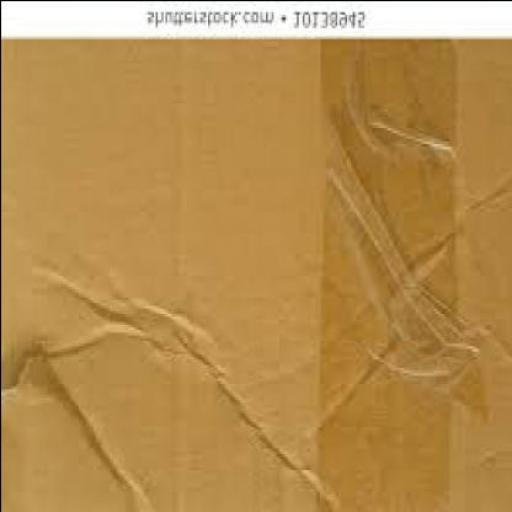cardboard: (1, 38, 512, 511)
